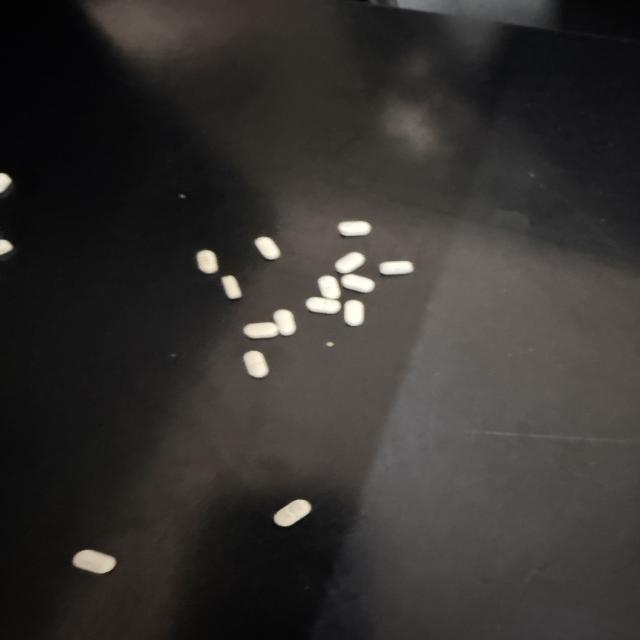pill: (72, 550, 116, 573), (274, 500, 311, 526), (243, 351, 269, 378), (335, 252, 365, 273), (243, 322, 279, 339), (341, 274, 375, 292), (306, 297, 341, 313), (274, 310, 296, 335), (255, 237, 280, 259), (196, 250, 218, 274), (344, 300, 364, 326), (318, 276, 340, 299), (338, 221, 371, 236), (380, 261, 413, 275), (221, 276, 241, 299), (0, 173, 12, 194), (0, 239, 13, 255), (326, 342, 334, 346), (179, 194, 186, 198)
